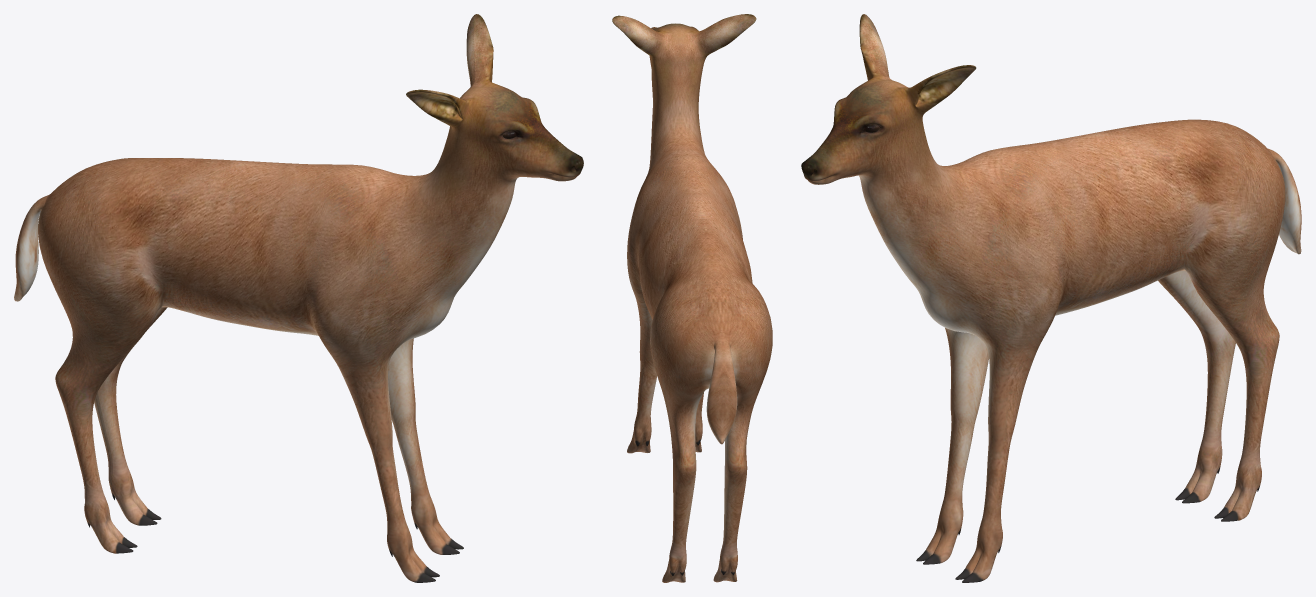
The model's file is deer.glb.
3 views of the same model, side by side, from view 1: azimuth 30°, elevation 25°; view 2: azimuth 150°, elevation 25°; view 3: azimuth 270°, elevation 25° (orthographic). The views are drawn at different scales.
Visible parts, largest first — view 1: deer; view 2: deer; view 3: deer.
Part boxes in pixels (x1,y1,x2,y2): deer: (14,14,583,582); deer: (612,14,772,582); deer: (801,14,1301,582).
Bounding box in the file's own units: 2.13 × 3.4 × 2.78.
1 material, 1 textured.
